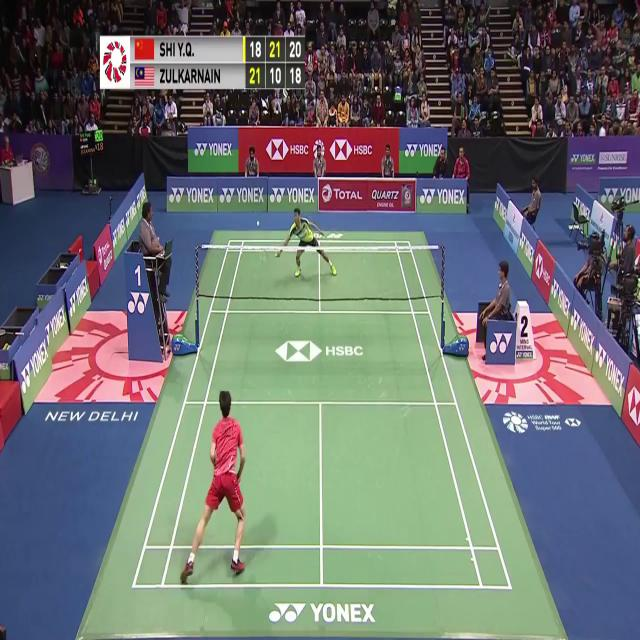Shuttlecock: (254, 217, 261, 229)
